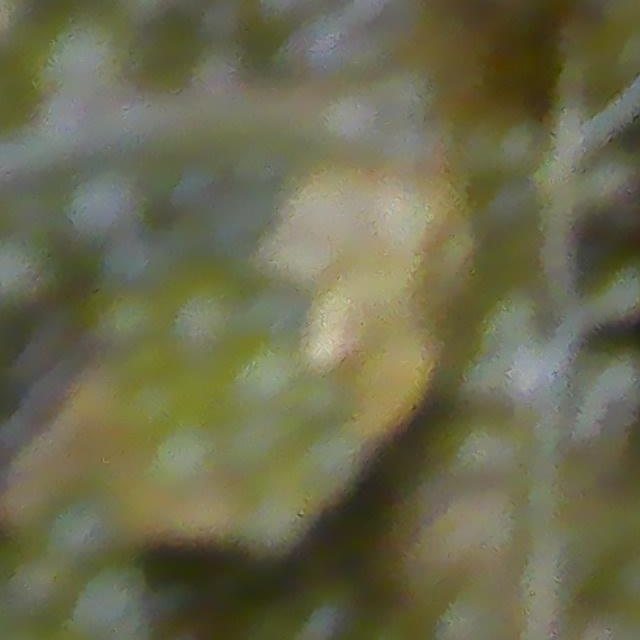SeaGrape: (161, 263, 250, 355), (41, 8, 131, 98), (70, 560, 155, 639), (42, 490, 123, 567), (65, 165, 142, 242), (91, 284, 172, 355), (0, 230, 55, 316)
